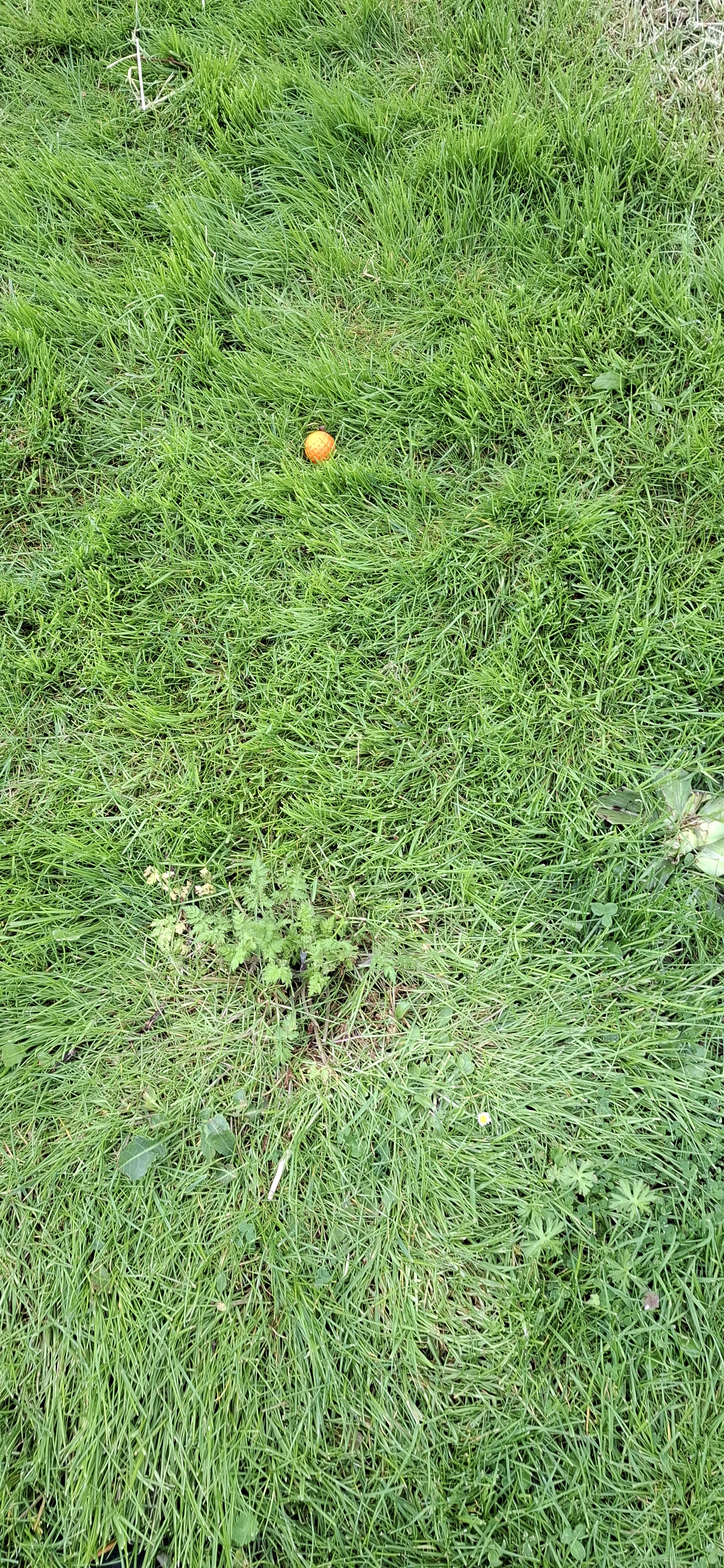ball: (199, 842, 215, 909)
